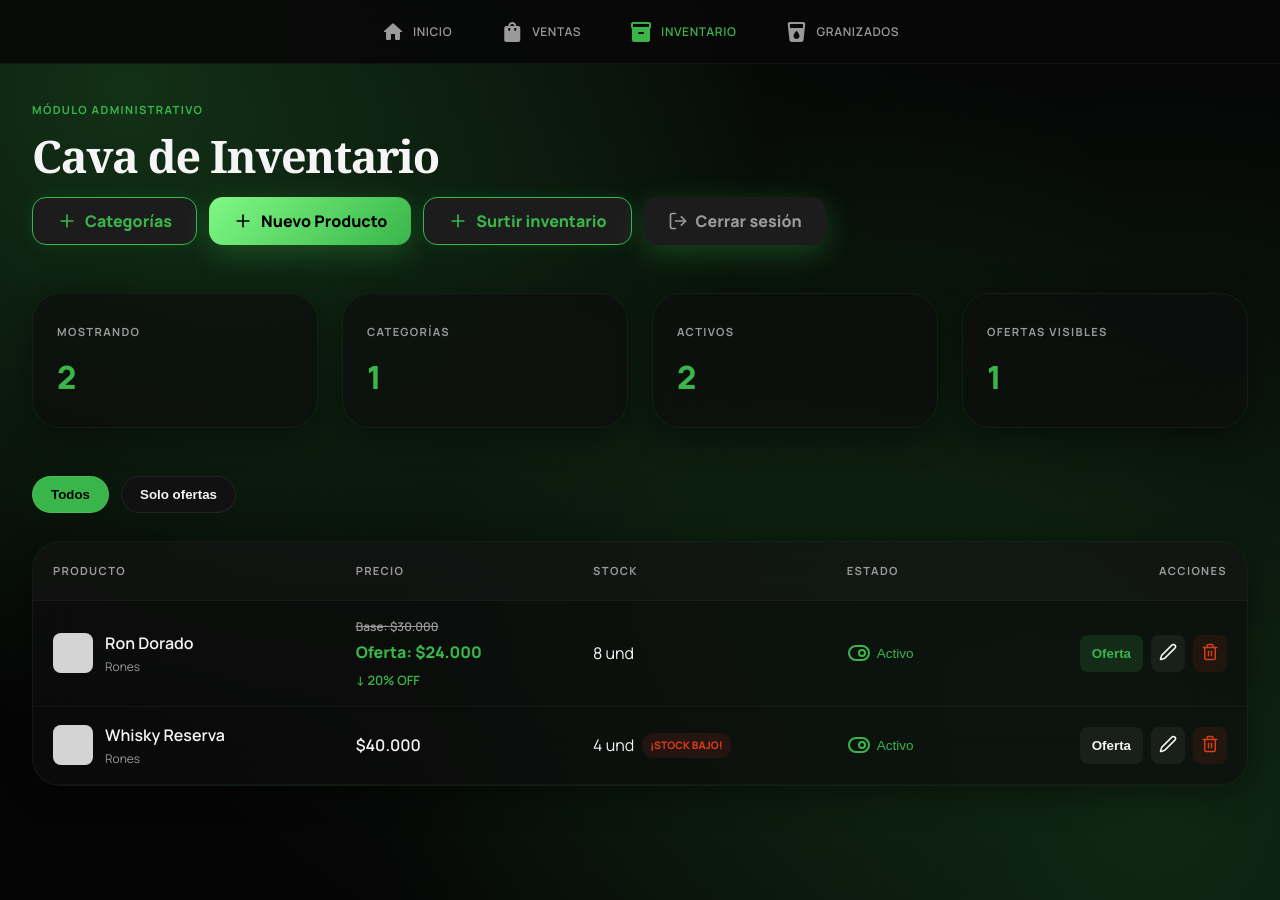
Test case: InventoryAdminPage surtir inventario › CP-HU26-04: muestra tabla de surtido con stock actual de cada producto
Expected: the text "Ron Dorado" is shown, [105,631,194,657]
Click the button "Surtir inventario": (527, 221) [423,197,632,245]
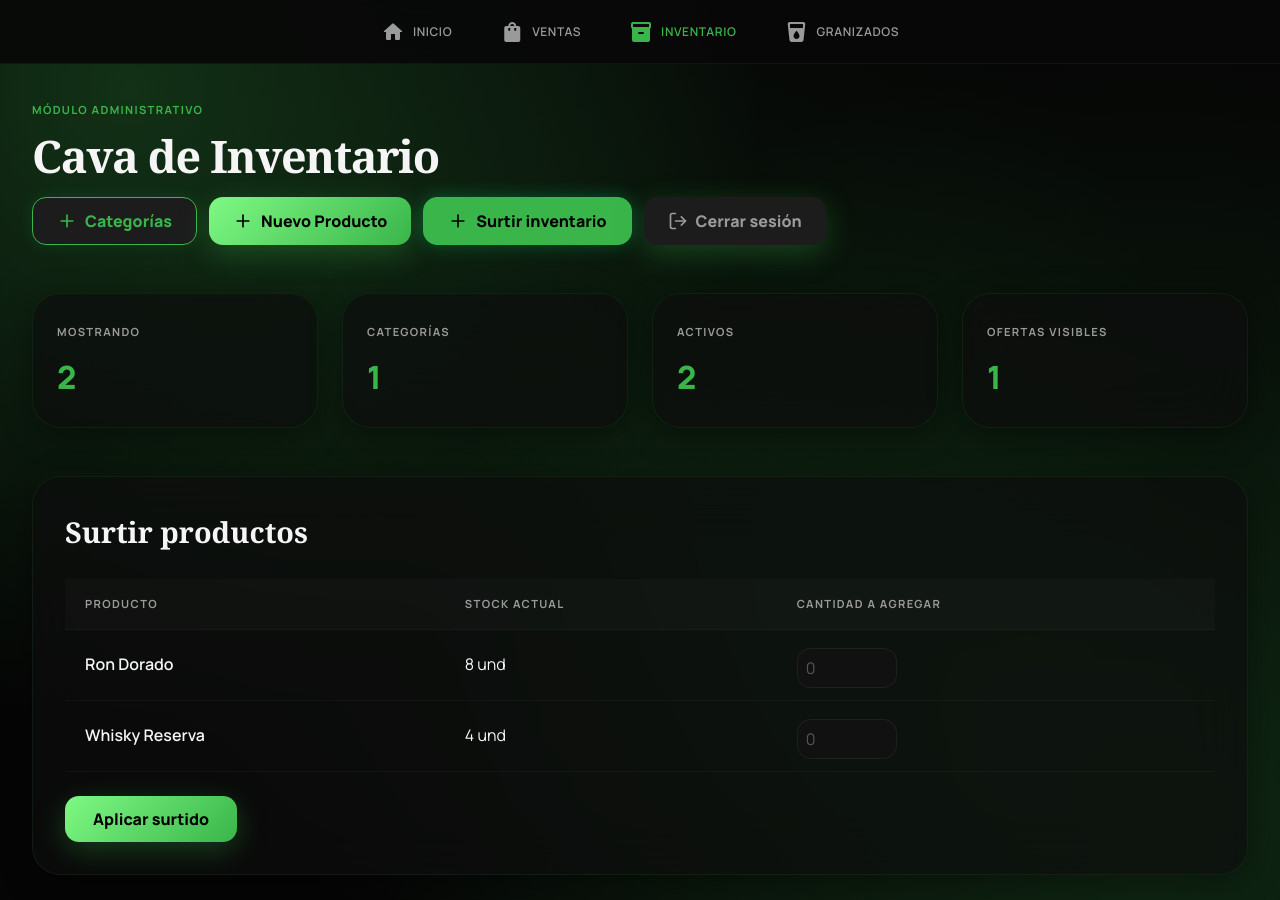
Expected: the text "Ron Dorado" is shown, [65,629,445,700]
Expected: the table with test id "tabla-surtir" is shown, [65,579,1215,772]
